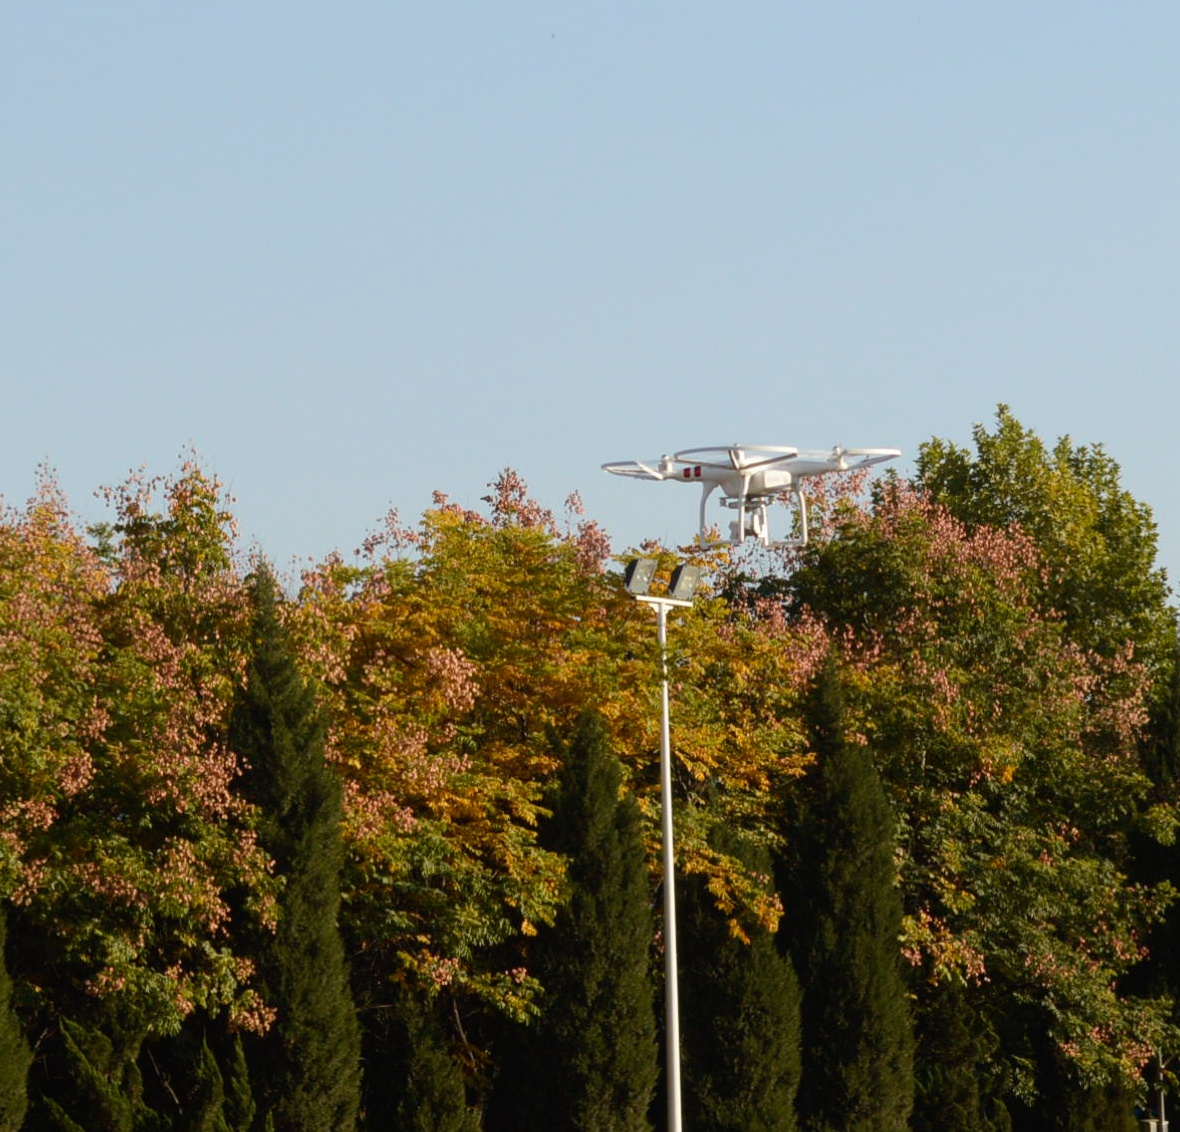DJI: (601, 435, 899, 548)
